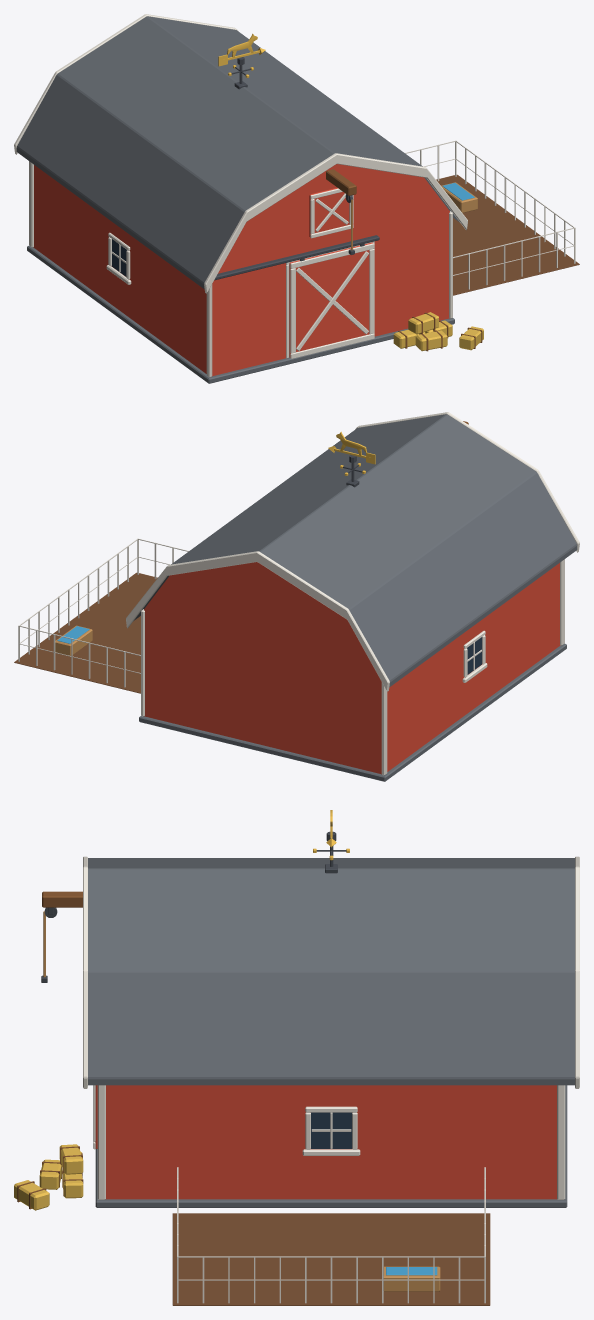
Rendered from red-gambrel-barn.glb.
3 renders of one model, top to bottom at view 1: azimuth 30°, elevation 25°; view 2: azimuth 150°, elevation 25°; view 3: azimuth 270°, elevation 25°, orthographic. The views are drawn at different scales.
Visible parts, largest first — view 1: Roof, Wall_Front, Wall_Side_L, Paddock_Soil, SlidingDoor, Fascia_Front, Foundation, Paddock_Fence, LoftDoor, DoorTrack, Fascia_Back, CornerBoard_LF (+8 smaller); view 2: Roof, Wall_Back, Wall_Side_L, Paddock_Soil, Foundation, Fascia_Back, Paddock_Fence, Fascia_Front, CornerBoard_LB, Trough; view 3: Roof, Wall_Side_R, Paddock_Soil, Foundation, Paddock_Fence, Window_R_Glass, Fascia_Back, Fascia_Front, Trough, CornerBoard_RB, CornerBoard_RF, HayBale_5 (+1 smaller).
Part boxes in pixels (box(x1,y1,x2,y2)): Roof: box(16, 16, 459, 289); Wall_Front: box(212, 164, 449, 376); Wall_Side_L: box(35, 165, 206, 373); Paddock_Soil: box(436, 174, 579, 295); SlidingDoor: box(289, 242, 373, 357); Fascia_Front: box(204, 153, 467, 293); Foundation: box(27, 245, 454, 383); Paddock_Fence: box(405, 140, 575, 289); LoftDoor: box(309, 187, 349, 236); DoorTrack: box(214, 235, 379, 280); Fascia_Back: box(14, 14, 238, 154); CornerBoard_LF: box(206, 284, 212, 377); Roof: box(134, 414, 577, 687); Wall_Back: box(144, 562, 381, 774); Wall_Side_L: box(387, 563, 558, 771); Paddock_Soil: box(14, 572, 157, 693); Foundation: box(139, 643, 566, 781); Fascia_Back: box(126, 551, 389, 691); Paddock_Fence: box(18, 538, 188, 687); Fascia_Front: box(355, 412, 579, 552); CornerBoard_LB: box(381, 682, 387, 775); Trough: box(55, 625, 92, 655); Roof: box(88, 858, 574, 1085); Wall_Side_R: box(108, 1085, 554, 1199); Paddock_Soil: box(172, 1213, 490, 1305); Foundation: box(95, 1085, 567, 1207); Paddock_Fence: box(177, 1167, 485, 1303); Window_R_Glass: box(311, 1112, 351, 1148); Fascia_Back: box(575, 856, 579, 1088); Fascia_Front: box(83, 856, 87, 1088); Trough: box(383, 1266, 440, 1291); CornerBoard_RB: box(557, 1085, 565, 1199); CornerBoard_RF: box(97, 1085, 105, 1199); HayBale_5: box(14, 1180, 49, 1210).
Bounding box in the file's own units: 47.74 × 27.99 × 44.19.
